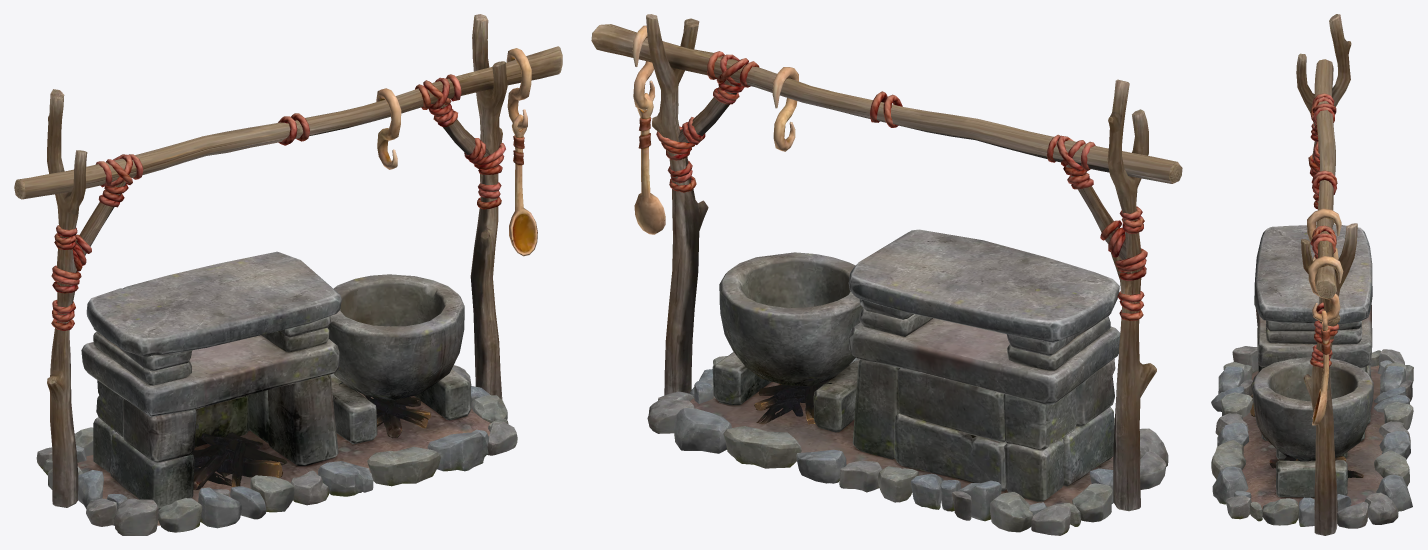
The picture shows the model from 3 angles, left to right: view 1: azimuth 30°, elevation 25°; view 2: azimuth 150°, elevation 25°; view 3: azimuth 270°, elevation 25°; orthographic projection. The views are drawn at different scales.
Visible parts, largest first — view 1: SM_Cooking_Range_Idle_02_LOD0; view 2: SM_Cooking_Range_Idle_02_LOD0; view 3: SM_Cooking_Range_Idle_02_LOD0.
Boxes of the visible parts, bbox=[...] form: SM_Cooking_Range_Idle_02_LOD0: bbox=[14, 14, 562, 535]; SM_Cooking_Range_Idle_02_LOD0: bbox=[591, 14, 1182, 535]; SM_Cooking_Range_Idle_02_LOD0: bbox=[1211, 14, 1413, 535].
Bounding box in the file's own units: 2.5 × 1.82 × 0.9592.
2 materials, 2 textured.
